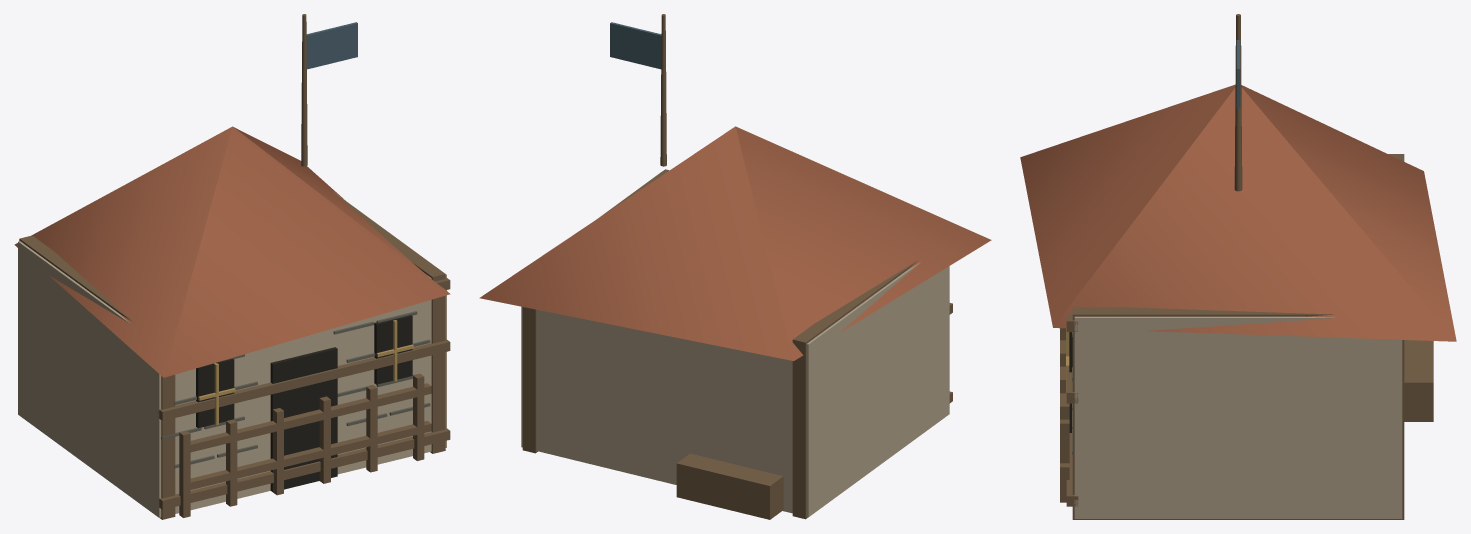
File: b-camel-castilian.glb
3 renders of one model, left to right at view 1: azimuth 30°, elevation 25°; view 2: azimuth 150°, elevation 25°; view 3: azimuth 270°, elevation 25°, orthographic. The views are drawn at different scales.
Visible parts, largest first — view 1: Structure; view 2: Structure; view 3: Structure.
Boxes of the visible parts, box(x1,y1,x2,y2) form: Structure: box(14, 14, 450, 519); Structure: box(479, 14, 991, 519); Structure: box(1020, 14, 1456, 519).
Size of the model in its own units: 4.53 by 5.33 by 4.53.
